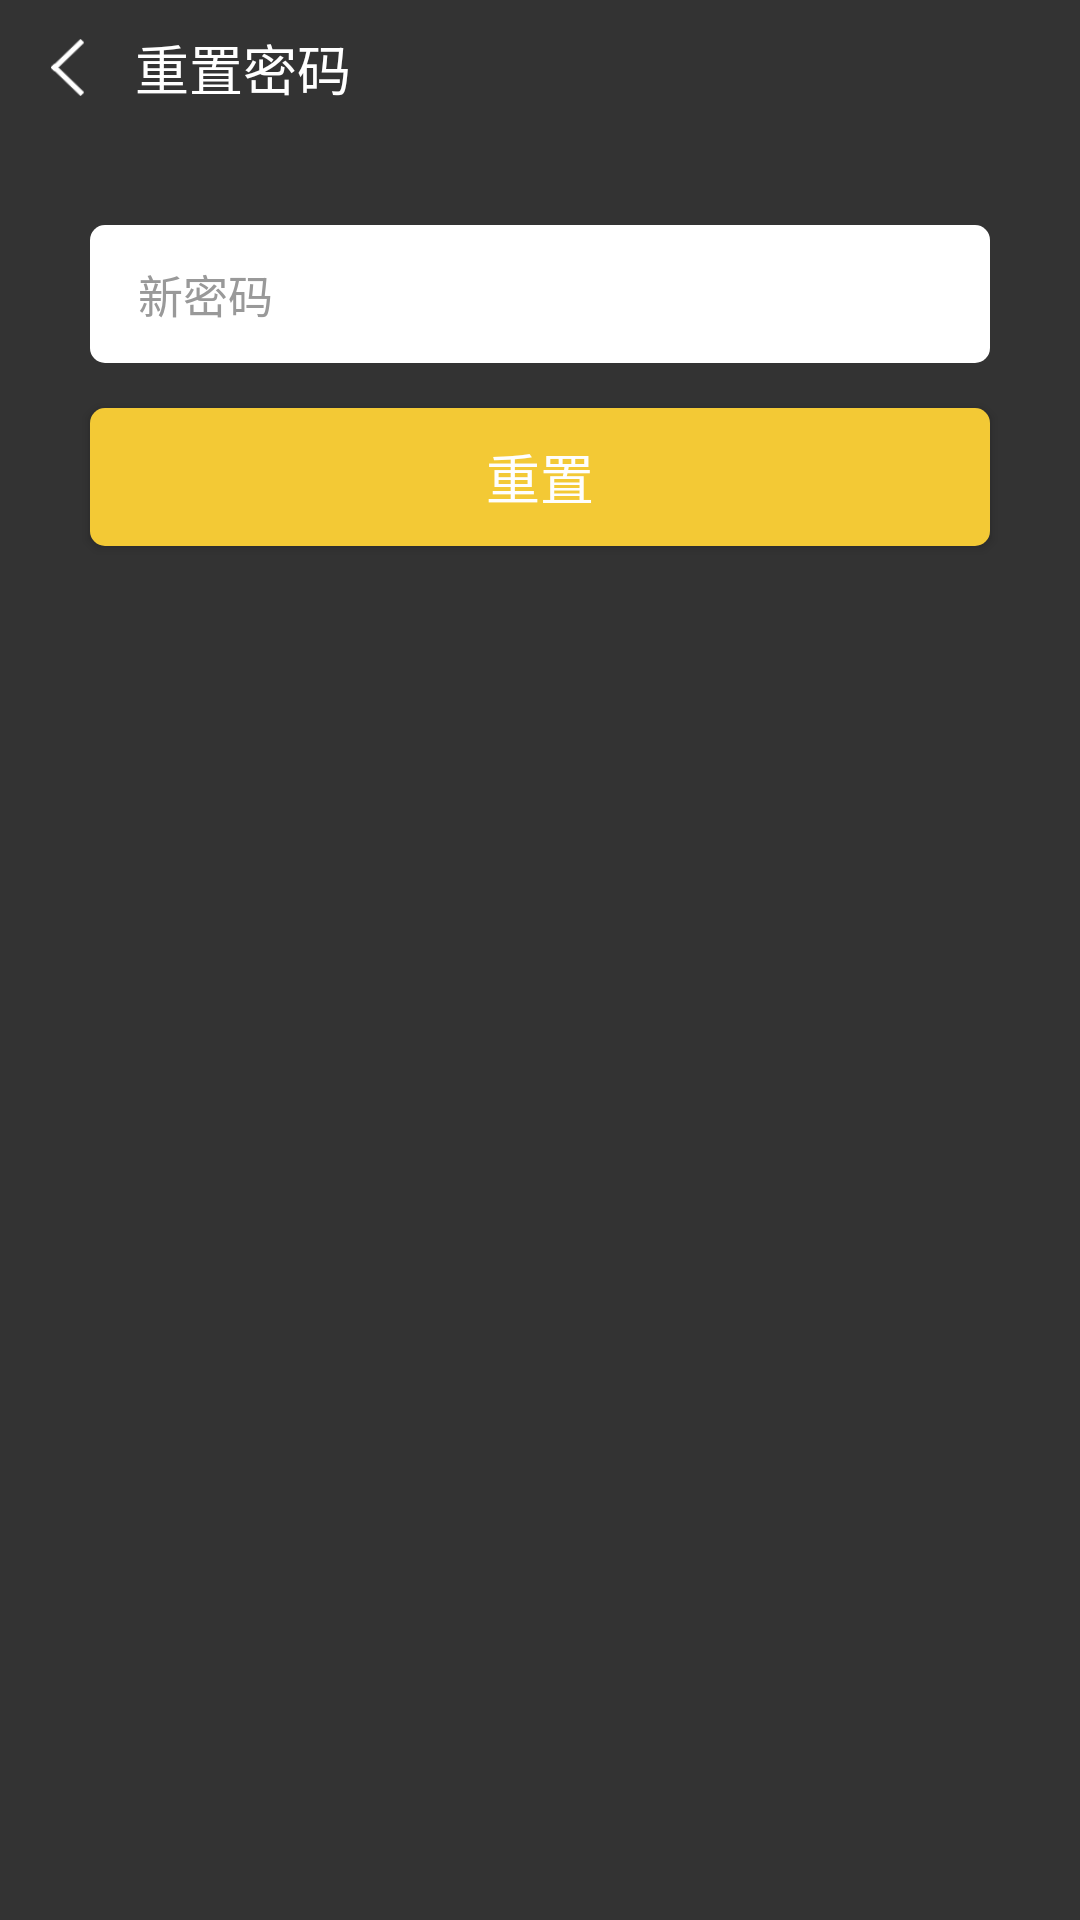

Point at icon controls on the screen. Image size 1080*1920, points as [x,y].
back: [67,67]
